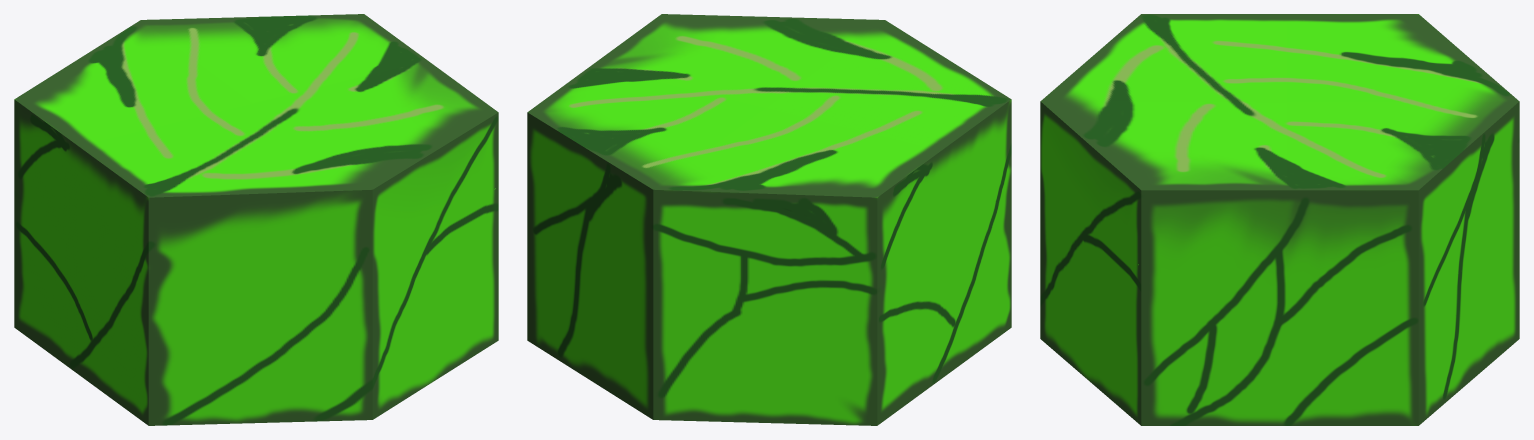
Rendered from tile_city_2.gltf.
3 renders of one model, left to right at view 1: azimuth 30°, elevation 25°; view 2: azimuth 150°, elevation 25°; view 3: azimuth 270°, elevation 25°, orthographic. The views are drawn at different scales.
Parts seen in each view (by area): view 1: teil_feuille_1; view 2: teil_feuille_1; view 3: teil_feuille_1.
Part boxes in pixels (x1,y1,x2,y2): teil_feuille_1: (14,14,498,425); teil_feuille_1: (527,14,1011,425); teil_feuille_1: (1040,14,1519,425).
Size of the model in its own units: 1.6 by 1.01 by 1.84.
1 material, 1 textured.
